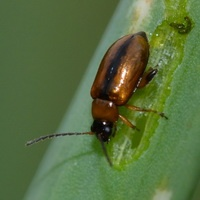insect: (27, 31, 166, 165)
